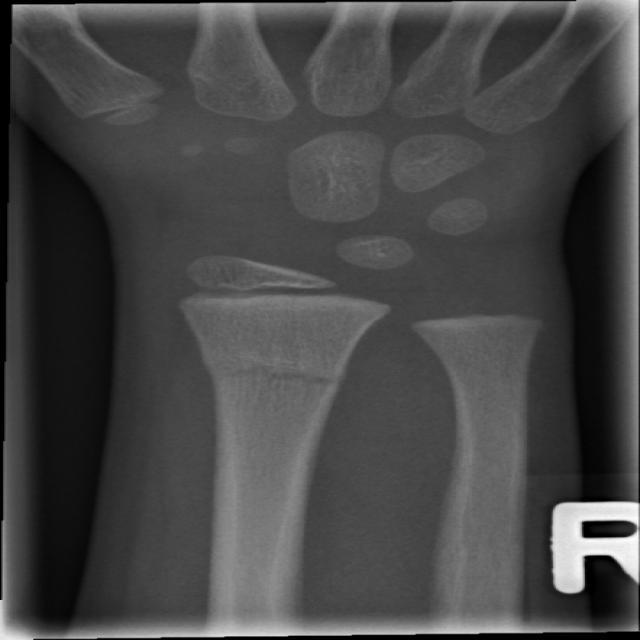radius fracture: (178, 309, 386, 473)
